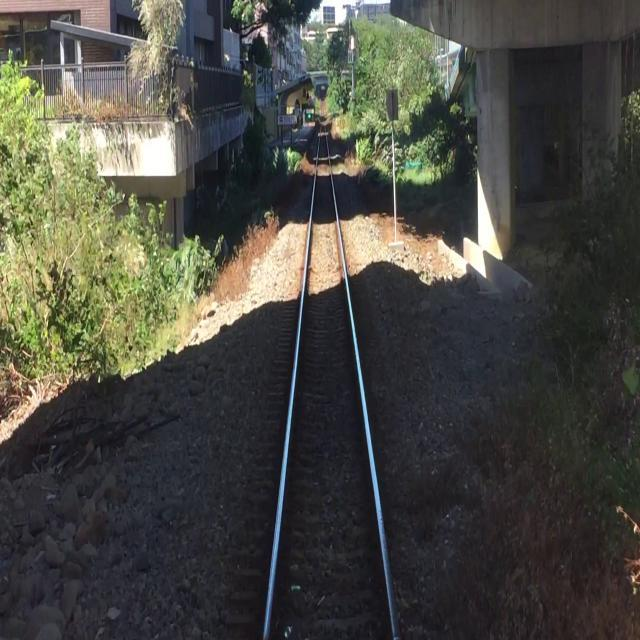track: (258, 101, 402, 640)
